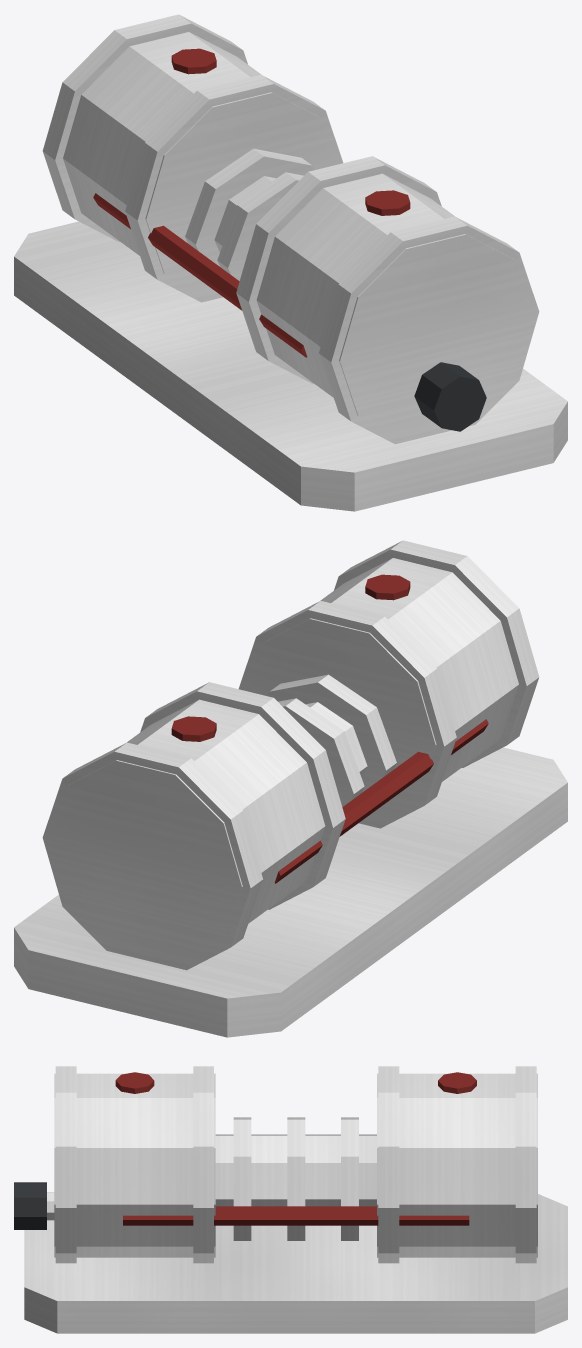
File: hemopump.obj
3 views of the same model, one above another, from view 1: azimuth 30°, elevation 25°; view 2: azimuth 150°, elevation 25°; view 3: azimuth 270°, elevation 25° (orthographic). The views are drawn at different scales.
Visible parts, largest first — view 1: hemopump; view 2: hemopump; view 3: hemopump.
Boxes of the visible parts, x1,y1,x2,y2 form: hemopump: (14,14,567,511); hemopump: (14,540,567,1037); hemopump: (14,1066,567,1333).
Size of the model in its own units: 0.86 by 0.7386 by 1.86.
